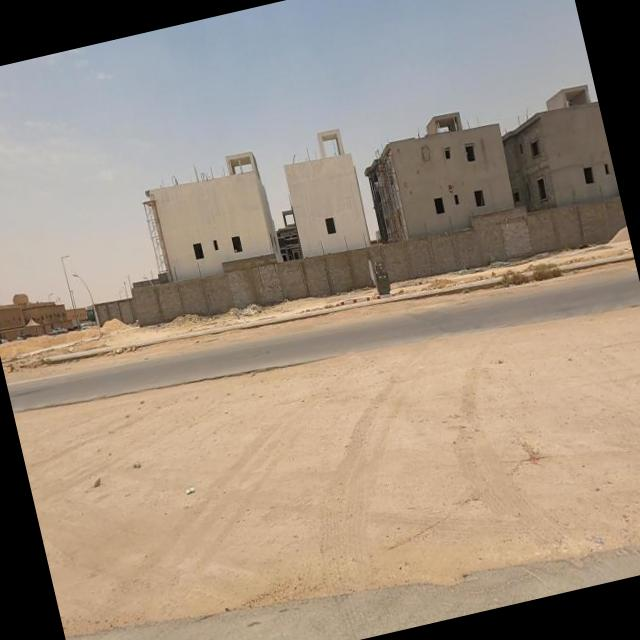debris: (149, 432, 240, 554)
